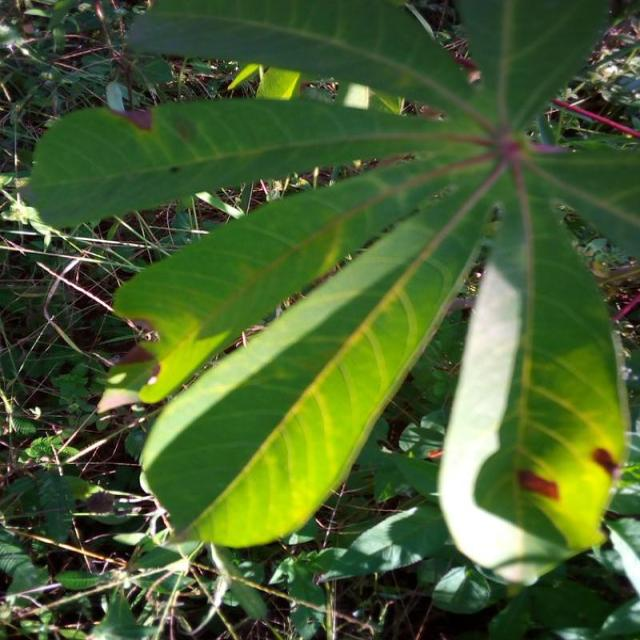cassava leaf: (22, 0, 638, 588), (137, 159, 493, 549), (437, 173, 630, 586)
